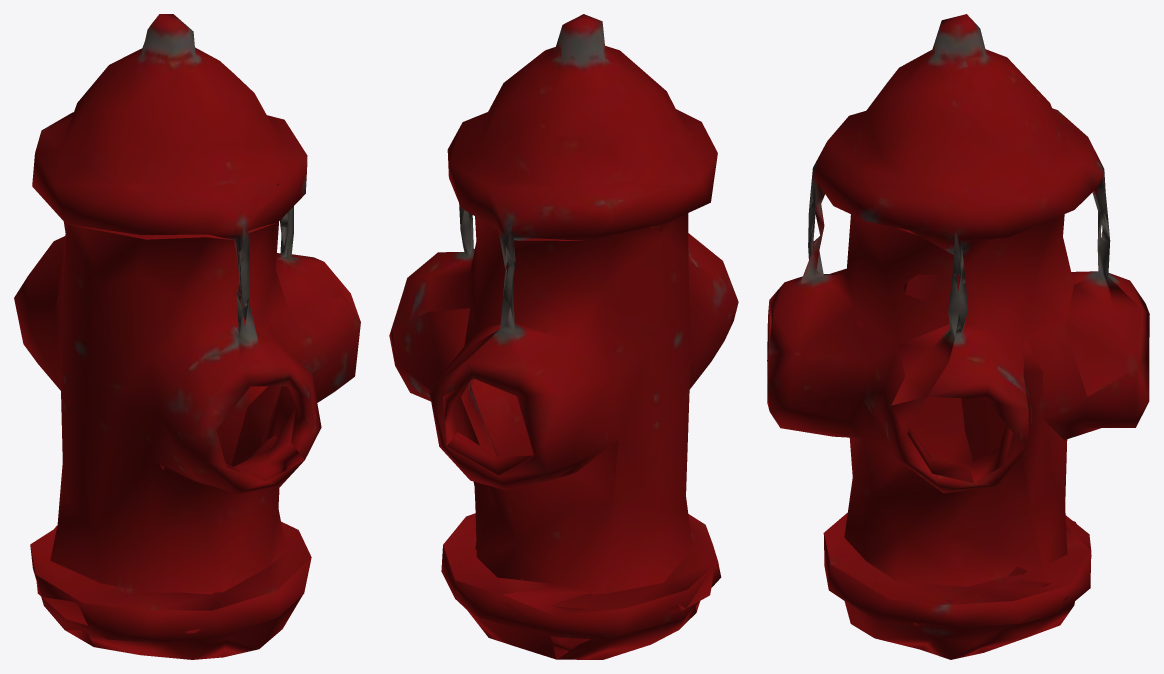
The model's file is street-hydrant.glb.
The picture shows the model from 3 angles, left to right: view 1: azimuth 30°, elevation 25°; view 2: azimuth 150°, elevation 25°; view 3: azimuth 270°, elevation 25°; orthographic projection.
Visible parts, largest first — view 1: Mesh_0.004; view 2: Mesh_0.004; view 3: Mesh_0.004.
Part boxes in pixels (<box>): Mesh_0.004: <box>14,14,360,659</box>; Mesh_0.004: <box>389,14,738,659</box>; Mesh_0.004: <box>767,14,1149,659</box>.
Size of the model in its own units: 0.4204 by 0.85 by 0.4961.
1 material, 1 textured.
